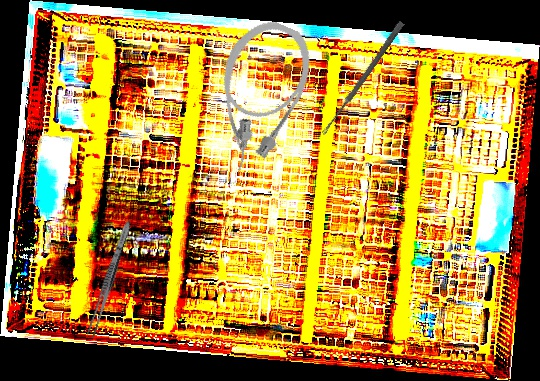Cannula: (189, 10, 324, 182)
Dressing Forceps: (85, 219, 134, 339)
Surgical Spoon: (320, 20, 405, 137)
